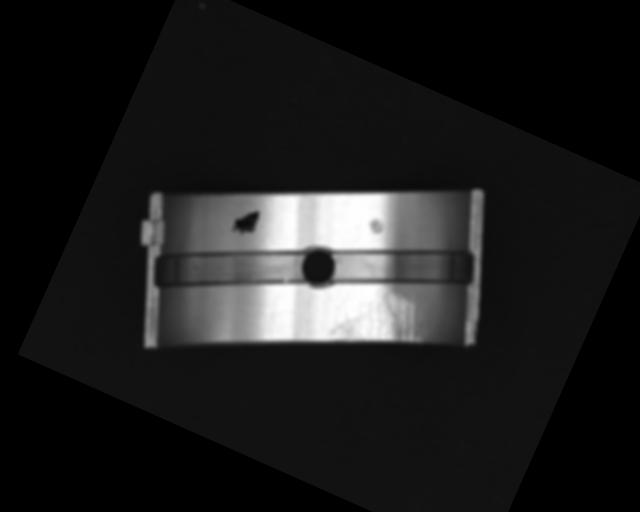blot: (228, 203, 263, 241)
bruise: (365, 216, 386, 238)
gap: (147, 199, 318, 338), (323, 202, 485, 334)
hole: (289, 238, 344, 296)
nick: (257, 297, 286, 338)
scratch: (324, 273, 437, 376)
